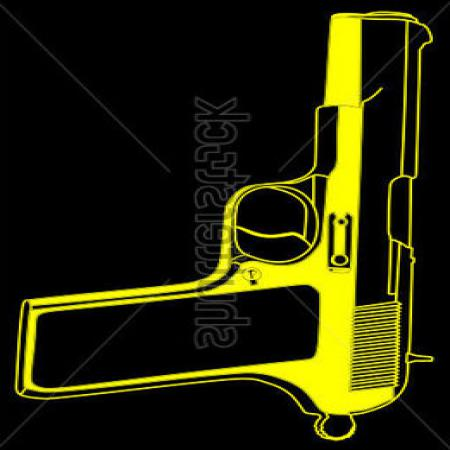Pistol: (15, 11, 445, 439)
